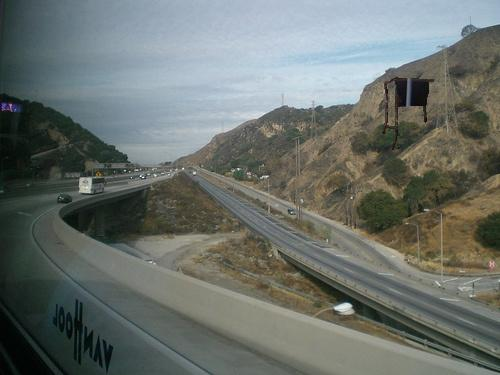tampered: (383, 78, 434, 150)
